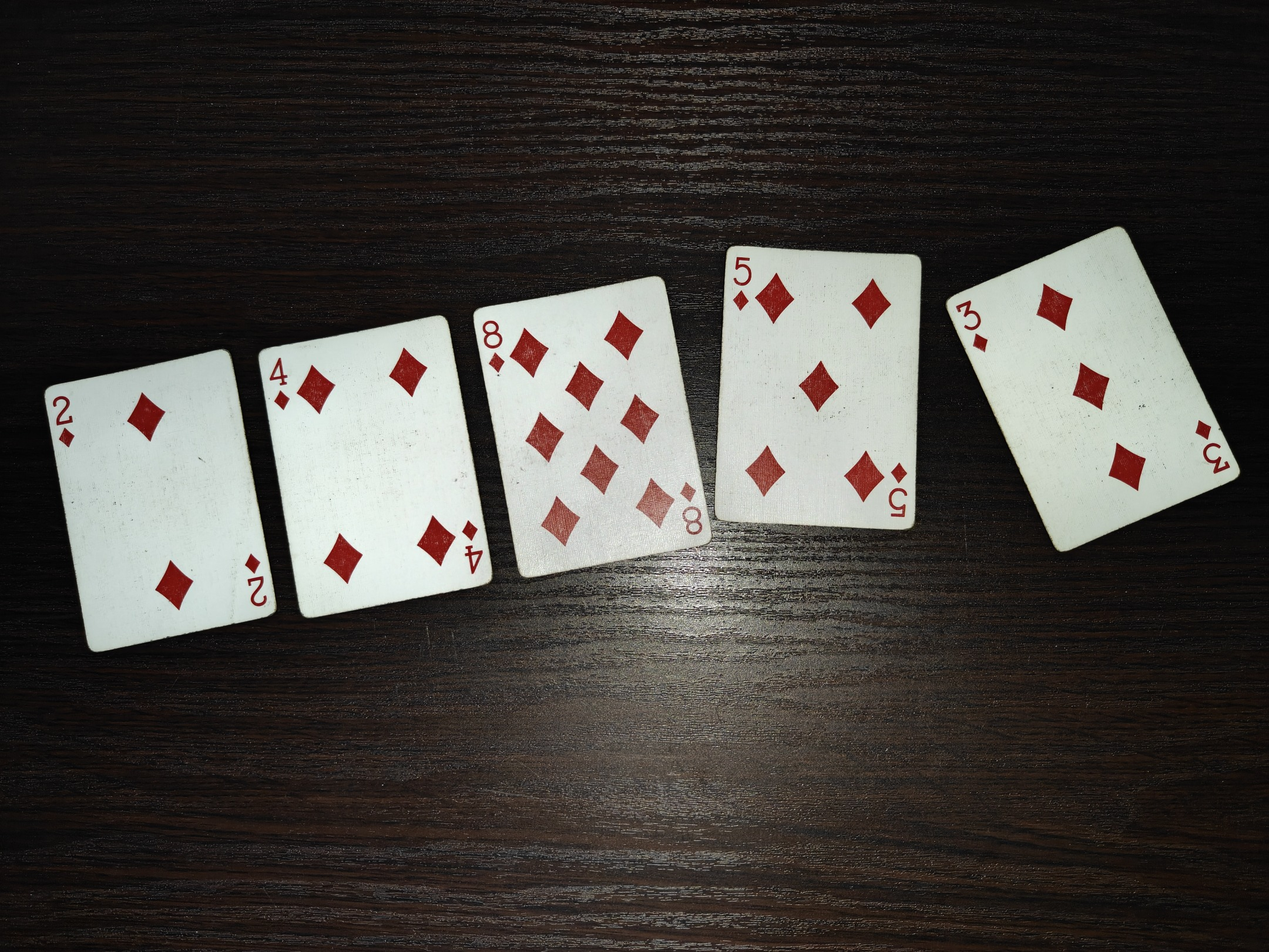2D: (44, 347, 277, 651)
3D: (949, 224, 1242, 555)
4D: (259, 313, 493, 616)
5D: (715, 244, 924, 531)
8D: (473, 275, 714, 579)
